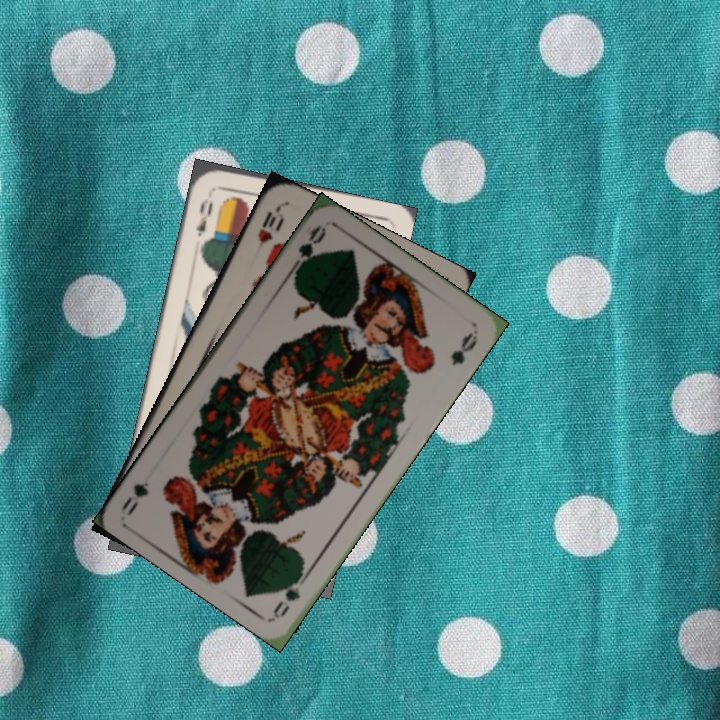EO: (191, 194, 216, 240)
GO: (269, 563, 313, 620), (286, 222, 329, 277)
H10: (251, 202, 286, 256)
